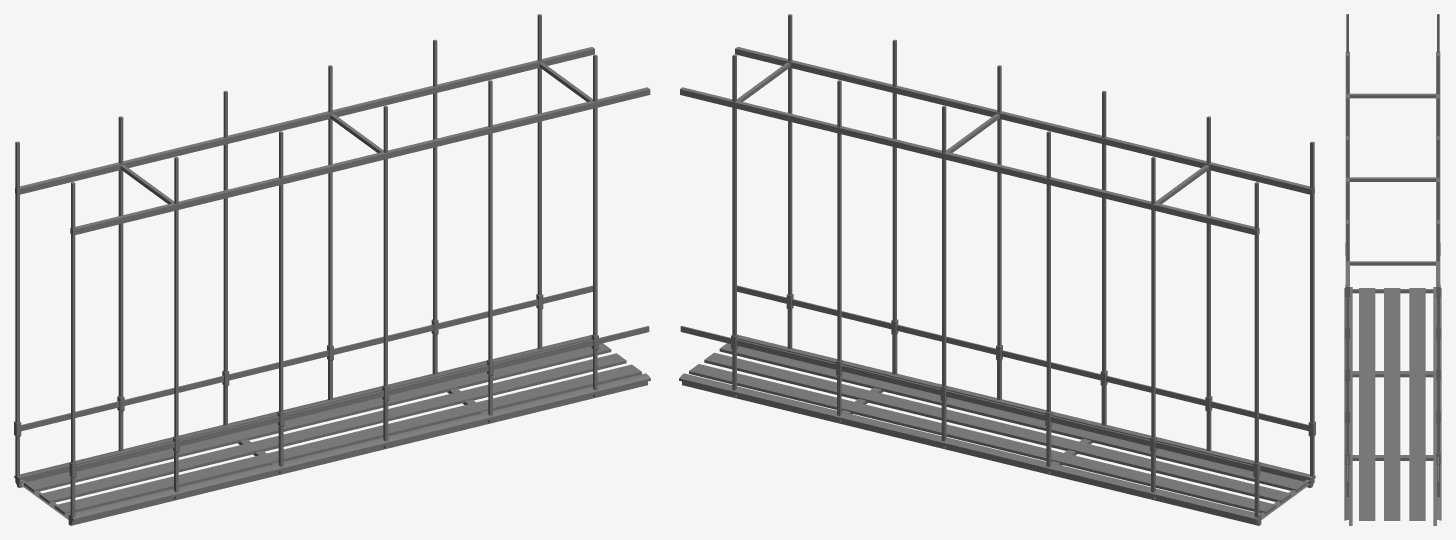
The model's file is tesla_structure_catwalk_02_lower_02.dae.
3 renders of one model, left to right at view 1: azimuth 30°, elevation 25°; view 2: azimuth 150°, elevation 25°; view 3: azimuth 270°, elevation 25°, orthographic. The views are drawn at different scales.
Parts seen in each view (by area): view 1: tesla_structure_catwalk_02_lower; view 2: tesla_structure_catwalk_02_lower; view 3: tesla_structure_catwalk_02_lower.
Part boxes in pixels (x1,y1,x2,y2): tesla_structure_catwalk_02_lower: [14, 14, 650, 525]; tesla_structure_catwalk_02_lower: [679, 14, 1315, 525]; tesla_structure_catwalk_02_lower: [1344, 14, 1441, 525].
Bounding box in the file's own units: 1352 × 767 × 240.
